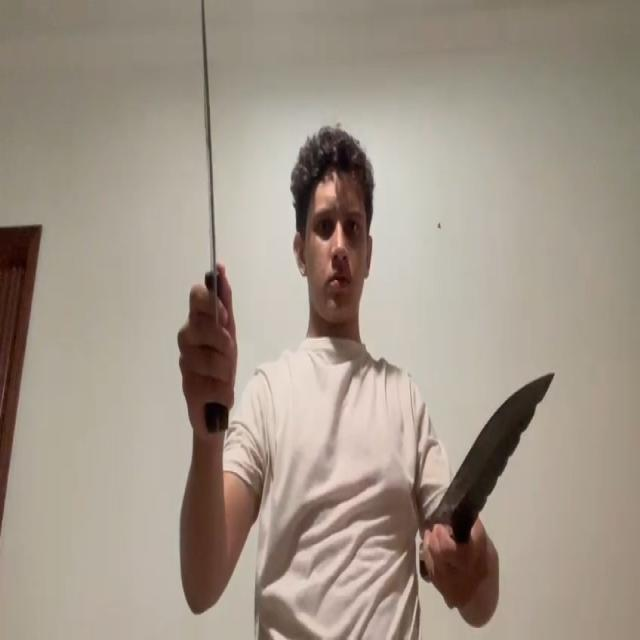knife: (431, 368, 556, 523), (198, 8, 220, 320)
